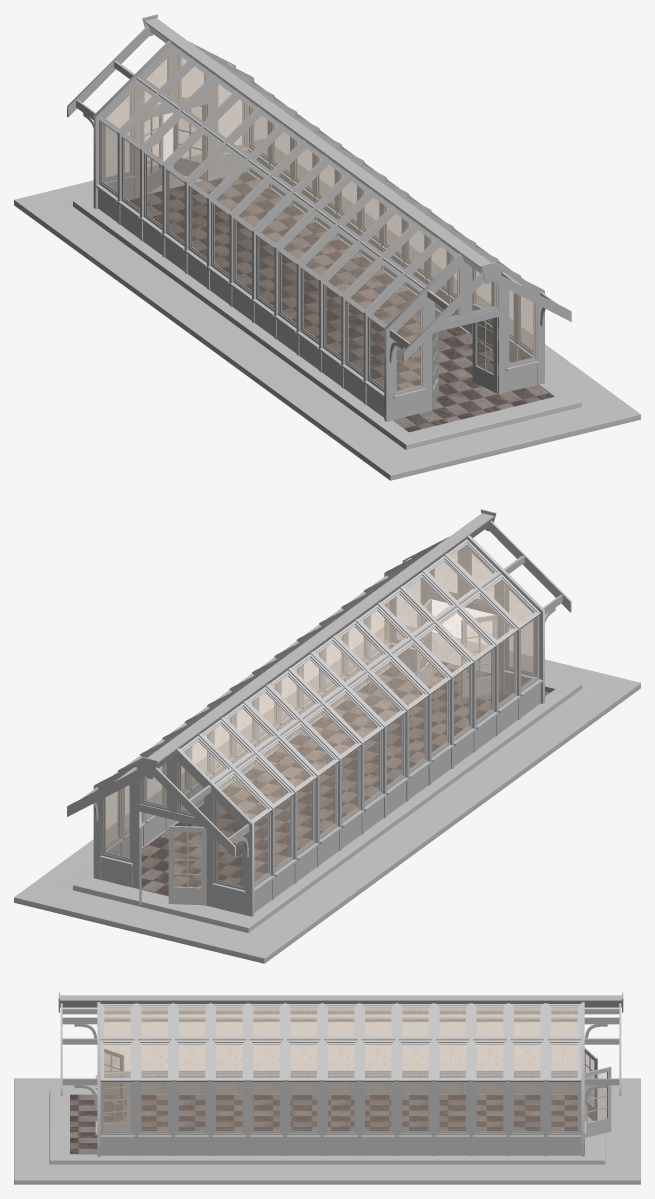
The model's file is Wooden Structure.fbx.
The picture shows the model from 3 angles, top to bottom: view 1: azimuth 30°, elevation 25°; view 2: azimuth 150°, elevation 25°; view 3: azimuth 270°, elevation 25°; orthographic projection. The views are drawn at different scales.
Visible parts, largest first — view 1: Floor, Front_Frame, Back_Frame, Window_Front, Window_Side.003, Window_Side.002, Window_Side.006, Window_Side.005, Window_Side, Window_Side.011, Window_Side.012, Window_Side.001 (+21 smaller); view 2: Floor, Back_Frame, Window_Back, Front_Frame, Window_Side.012, Window_Side.007, Window_Side.002, Window_Side.010, Window_Side.008, Window_Side, Window_Side.001, Window_Side.011 (+21 smaller); view 3: Floor, Window_Side.001, Window_Side.003, Window_Side.007, Window_Side.010, Window_Side.002, Window_Side.006, Window_Side.011, Window_Side, Window_Side.004, Window_Side.005, Window_Side.008 (+20 smaller).
Boxes of the visible parts, x1,y1,x2,y2 form: Floor: [14, 139, 640, 480]; Front_Frame: [384, 248, 571, 421]; Back_Frame: [67, 14, 268, 222]; Window_Front: [393, 264, 537, 395]; Window_Side.003: [165, 93, 336, 246]; Window_Side.002: [187, 110, 358, 262]; Window_Side.006: [98, 44, 268, 197]; Window_Side.005: [120, 60, 291, 213]; Window_Side: [232, 142, 403, 295]; Window_Side.011: [277, 175, 447, 328]; Window_Side.012: [254, 159, 425, 311]; Window_Side.001: [210, 126, 380, 278]; Floor: [14, 625, 640, 963]; Back_Frame: [67, 726, 274, 916]; Window_Back: [101, 759, 245, 890]; Front_Frame: [384, 509, 571, 703]; Window_Side.012: [257, 621, 428, 773]; Window_Side.007: [369, 539, 540, 692]; Window_Side.002: [190, 670, 361, 823]; Window_Side.010: [302, 588, 473, 741]; Window_Side.008: [347, 555, 518, 708]; Window_Side: [235, 637, 406, 790]; Window_Side.001: [213, 654, 384, 806]; Window_Side.011: [280, 605, 451, 757]; Floor: [14, 1078, 640, 1184]; Window_Side.001: [361, 1004, 395, 1135]; Window_Side.003: [435, 1004, 469, 1135]; Window_Side.007: [100, 1004, 134, 1135]; Window_Side.010: [212, 1004, 246, 1135]; Window_Side.002: [398, 1004, 432, 1135]; Window_Side.006: [547, 1004, 581, 1135]; Window_Side.011: [249, 1004, 283, 1135]; Window_Side: [324, 1004, 357, 1135]; Window_Side.004: [473, 1004, 506, 1135]; Window_Side.005: [510, 1004, 543, 1135]; Window_Side.008: [138, 1004, 171, 1135].
Bounding box in the file's own units: 1424 × 902 × 3704.
